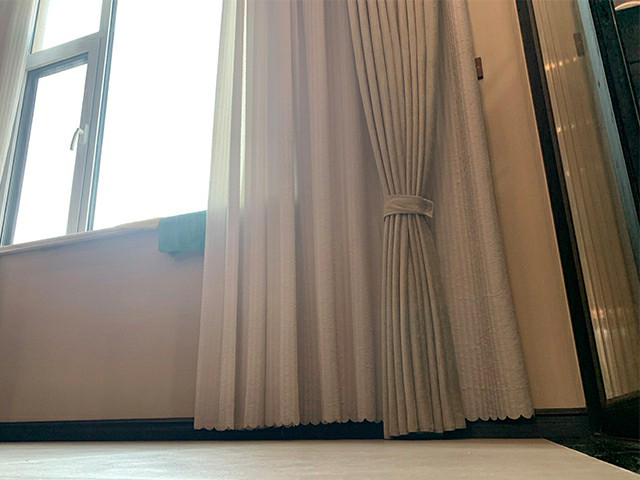curtain: (192, 1, 346, 438), (349, 1, 452, 437)
